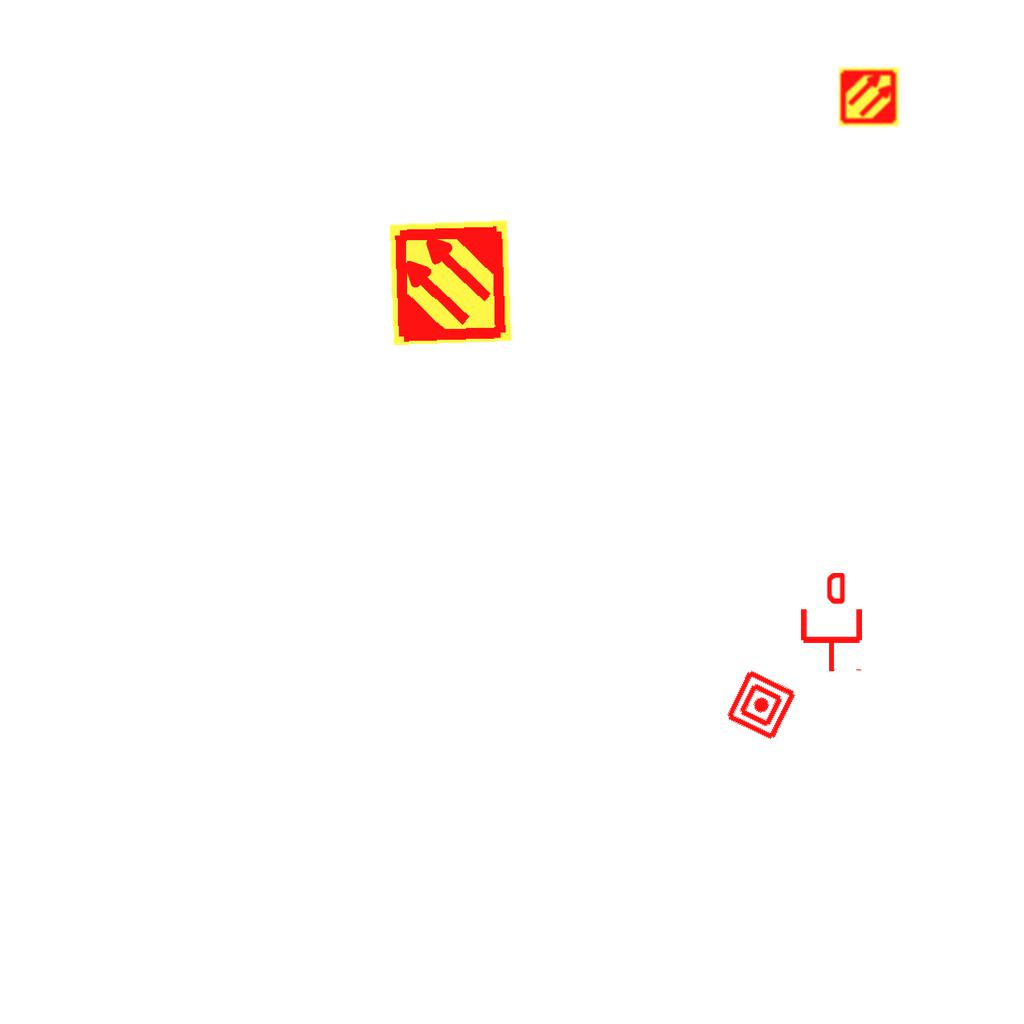ASR_Ansaugrauchmelder: (385, 217, 516, 348), (838, 66, 900, 128)
Datenanschluss_einfach: (797, 573, 866, 673)
NAM-Nichtautomatischer_Melder: (723, 667, 799, 743)
